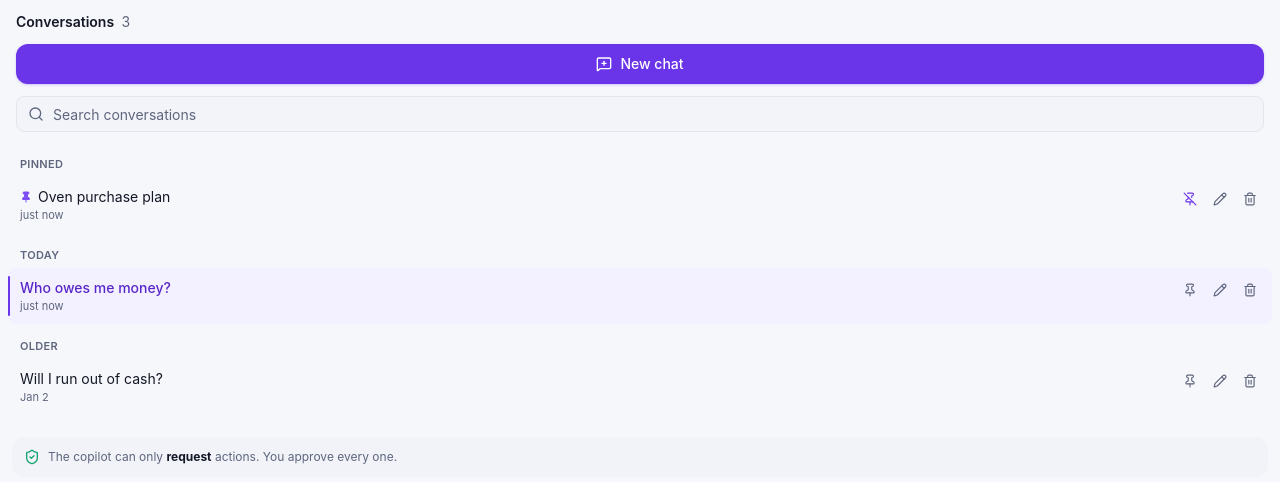
Test: conversation list › searches titles and messages on the server and highlights matches
Type "riverside" into the search field labelled "Search conversations" at (640, 114), box [16,96,1264,132]
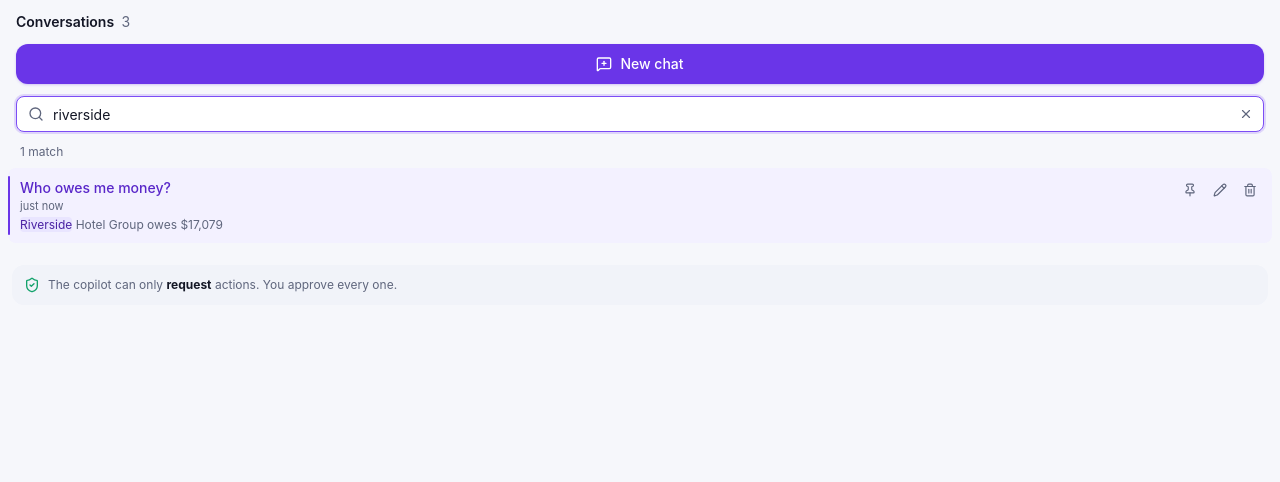
Now the text "1 match" is shown, box [20,144,63,159]
Now the text "Riverside" is shown, box [20,216,72,232]
Click the button named "Clear search" at (1246, 114), box [1234,102,1258,126]
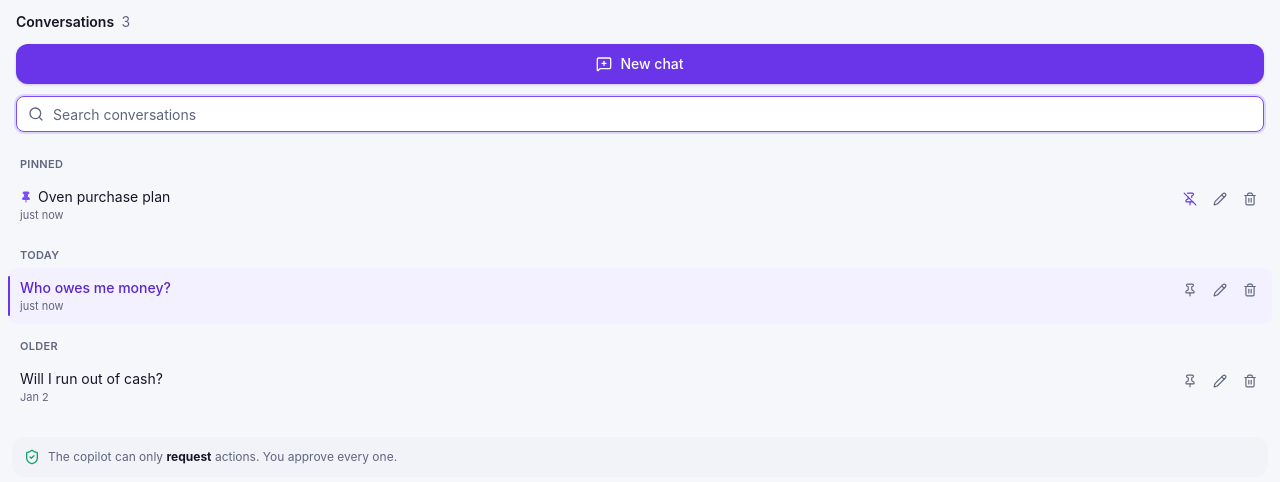
Now the text "Oven purchase plan" is shown, box [38,186,170,206]
